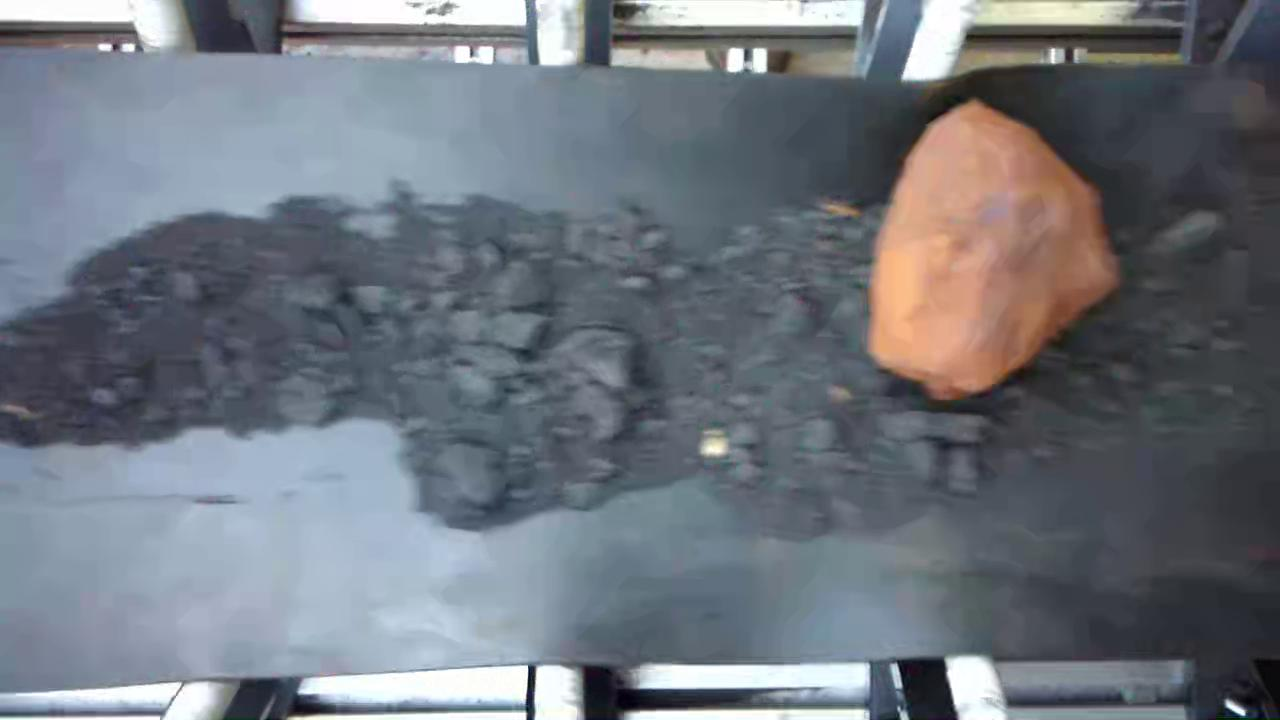conveyor: (1, 86, 1280, 643)
